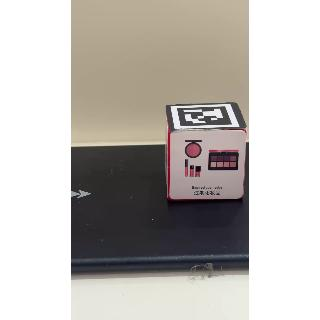Expired_Cosmetic: (172, 132, 247, 200)
